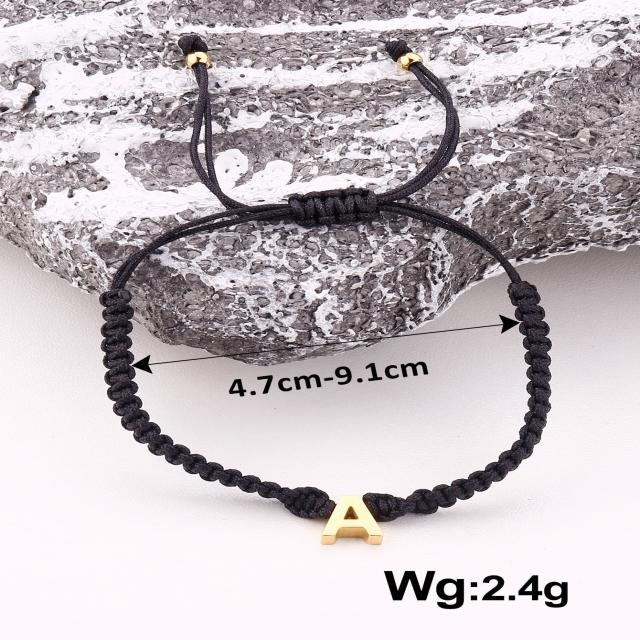bracelet: (16, 6, 627, 563)
